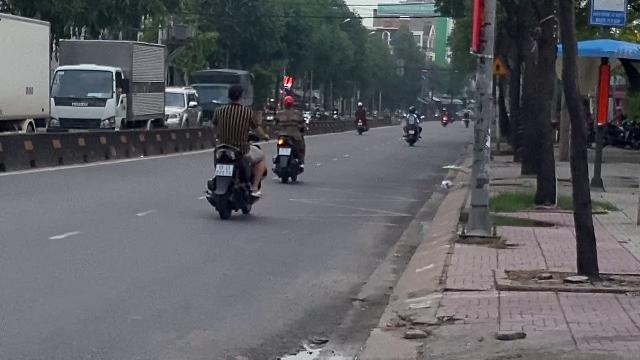licenseplate: (215, 164, 232, 176)
motorcyclist: (204, 82, 266, 219)
nohelmet: (226, 85, 244, 104)
